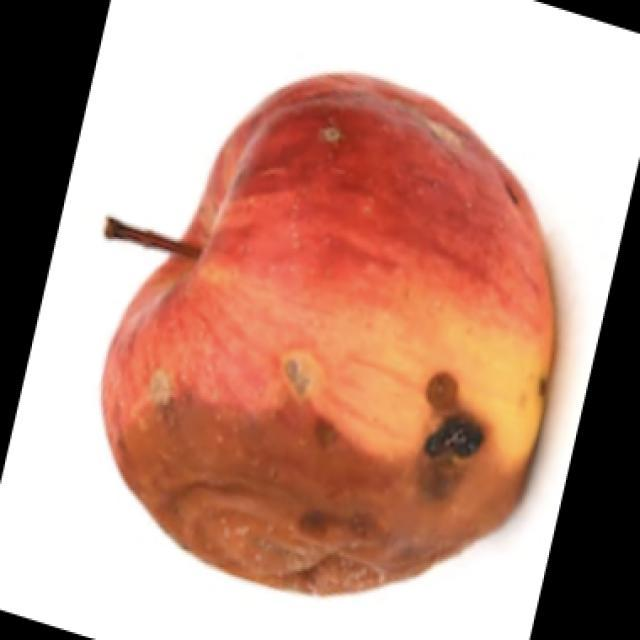Rotten: (137, 107, 563, 620)
